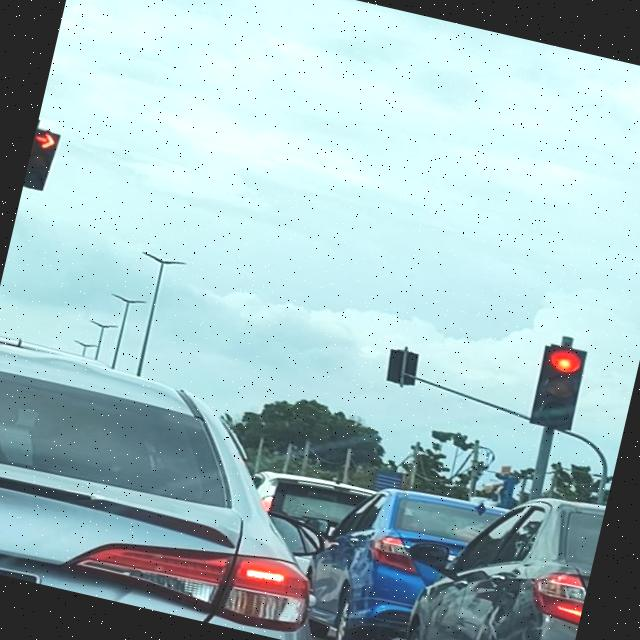red_light: (530, 342, 588, 432), (24, 127, 60, 188)
